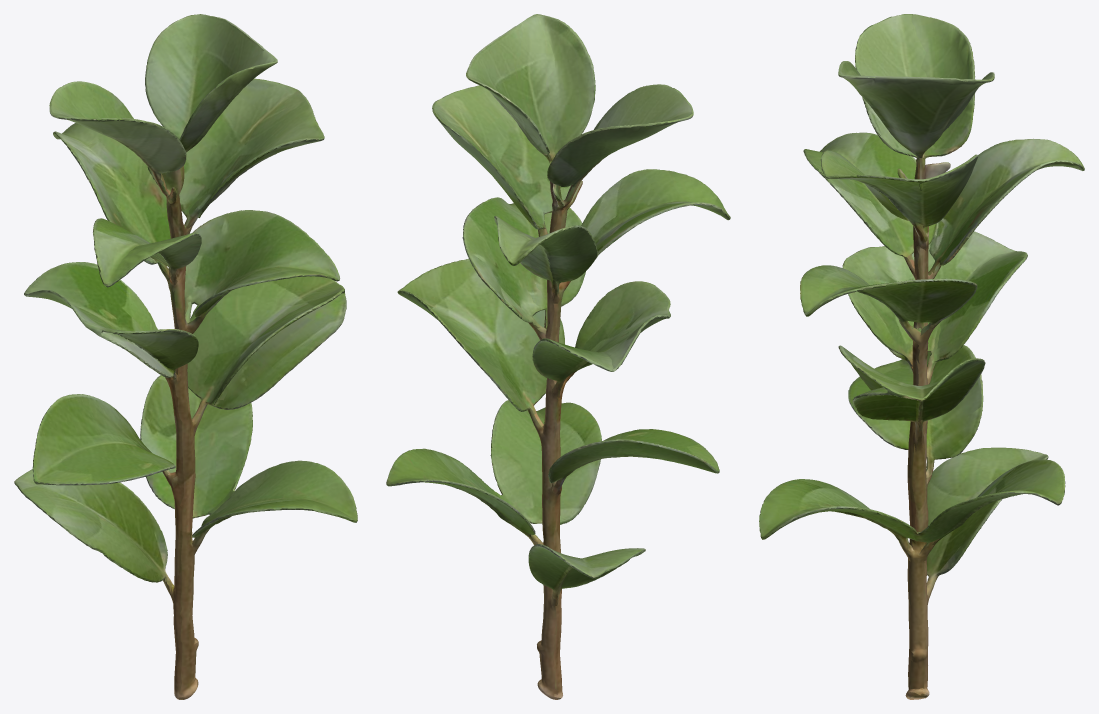
Rendered from lux-salal.glb.
3 renders of one model, left to right at view 1: azimuth 30°, elevation 25°; view 2: azimuth 150°, elevation 25°; view 3: azimuth 270°, elevation 25°, orthographic.
Parts seen in each view (by area): view 1: geometry_0; view 2: geometry_0; view 3: geometry_0.
Part boxes in pixels (x1=…): geometry_0: x1=14, y1=14, x2=357, y2=699; geometry_0: x1=386, y1=14, x2=730, y2=699; geometry_0: x1=759, y1=14, x2=1084, y2=699.
Bounding box in the file's own units: 0.45 × 0.8918 × 0.4028.
Materials: 1 (1 with a texture image).
